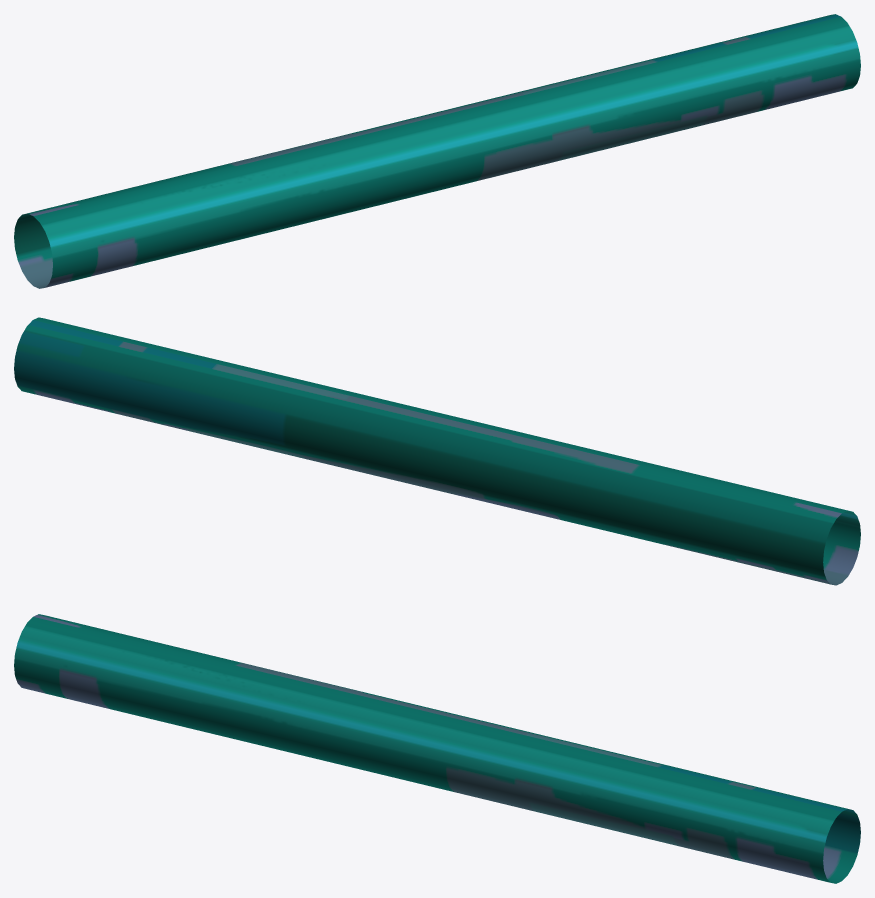
The model's file is Sm_Wire_Mid_Flat.fbx.
The picture shows the model from 3 angles, top to bottom: view 1: azimuth 30°, elevation 25°; view 2: azimuth 150°, elevation 25°; view 3: azimuth 330°, elevation 25°; orthographic projection.
Parts seen in each view (by area): view 1: Sm_Wire_Mid_Flat; view 2: Sm_Wire_Mid_Flat; view 3: Sm_Wire_Mid_Flat.
Boxes of the visible parts, <box> form: Sm_Wire_Mid_Flat: <box>14,14,860,288</box>; Sm_Wire_Mid_Flat: <box>14,317,860,585</box>; Sm_Wire_Mid_Flat: <box>14,614,860,883</box>.
Size of the model in its own units: 0.8343 by 0.8958 by 10.01.
1 material, 1 textured.
